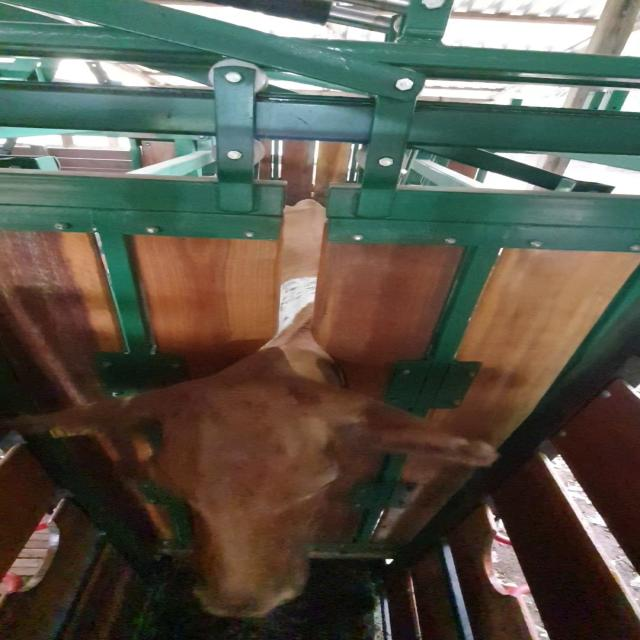cowFace: (144, 378, 339, 618)
